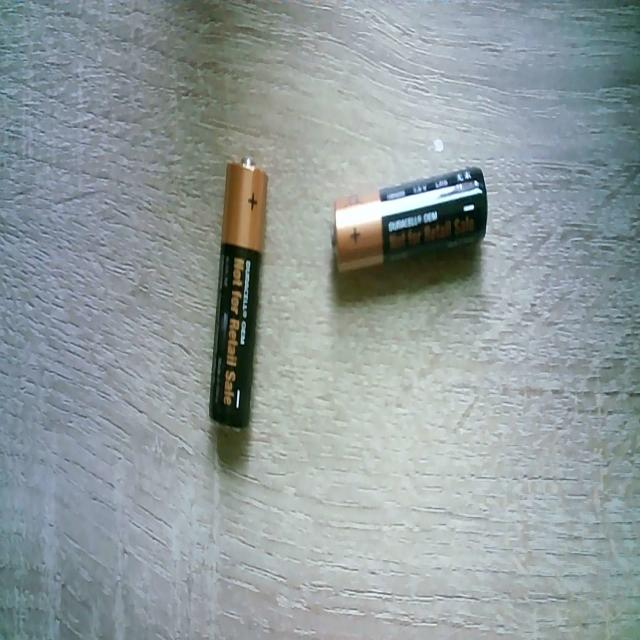AA: (332, 164, 488, 274), (208, 155, 268, 429)
